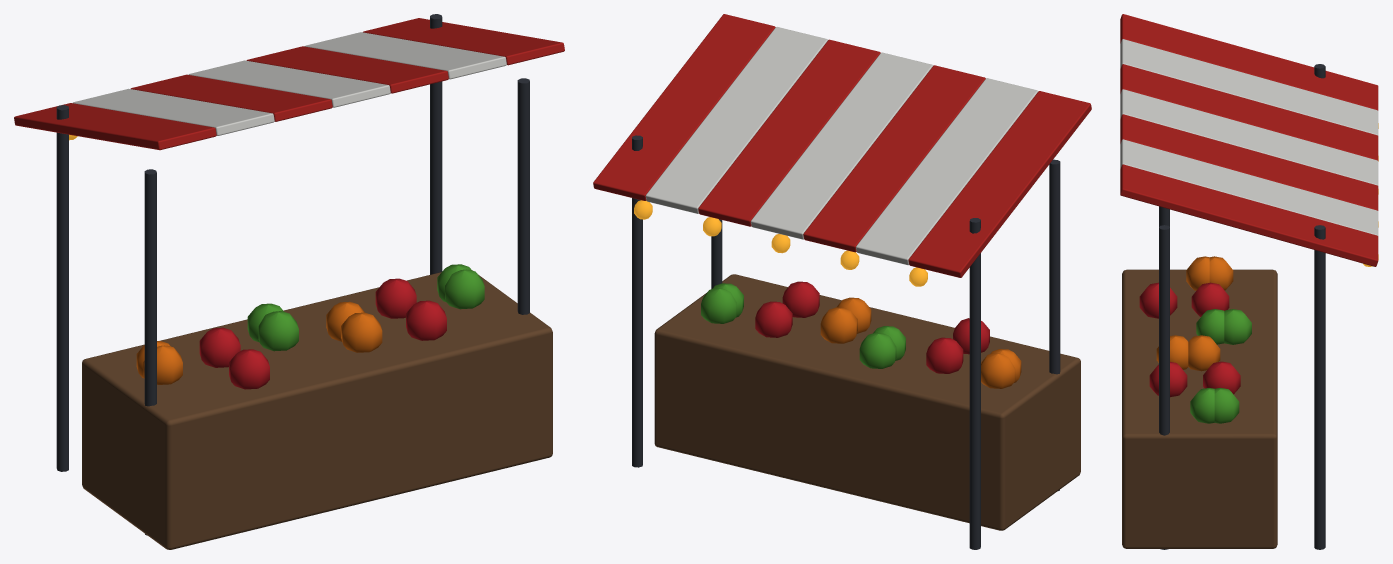
Rendered from prop_market_stall.glb.
The picture shows the model from 3 angles, left to right: view 1: azimuth 30°, elevation 25°; view 2: azimuth 150°, elevation 25°; view 3: azimuth 270°, elevation 25°; orthographic projection. The views are drawn at different scales.
Parts seen in each view (by area): view 1: MarketStall; view 2: MarketStall; view 3: MarketStall.
Part boxes in pixels (left/top/right/bottom): MarketStall: left=14, top=14, right=564, bottom=549; MarketStall: left=593, top=14, right=1091, bottom=549; MarketStall: left=1120, top=14, right=1378, bottom=549.
Bounding box in the file's own units: 2.94 × 2.86 × 1.83.
